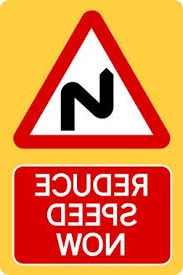Double_bend_right: (12, 10, 172, 151)
